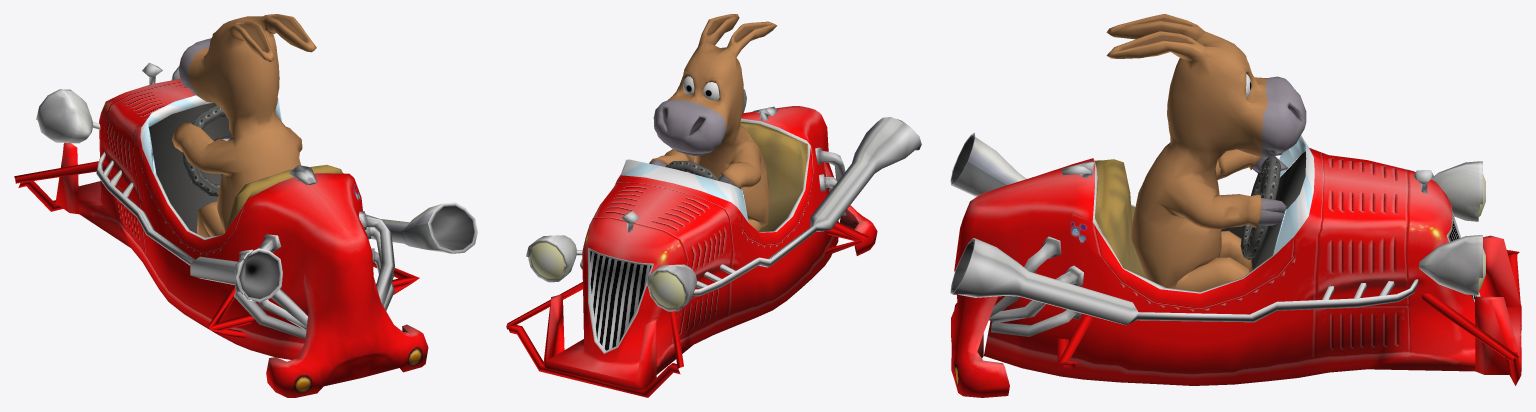
The model's file is emule.glb.
3 views of the same model, side by side, from view 1: azimuth 30°, elevation 25°; view 2: azimuth 150°, elevation 25°; view 3: azimuth 270°, elevation 25° (orthographic). The views are drawn at different scales.
Parts seen in each view (by area): view 1: emule_kart.jpg__, Emule_dif.png__; view 2: emule_kart.jpg__, Emule_dif.png__, Emule_eyes.png__; view 3: emule_kart.jpg__, Emule_dif.png__.
Boxes of the visible parts, x1=… form: emule_kart.jpg__: x1=14, y1=62, x2=477, y2=397; Emule_dif.png__: x1=172, y1=14, x2=316, y2=237; emule_kart.jpg__: x1=506, y1=89, x2=921, y2=397; Emule_dif.png__: x1=649, y1=14, x2=777, y2=231; Emule_eyes.png__: x1=683, y1=76, x2=719, y2=100; emule_kart.jpg__: x1=950, y1=132, x2=1521, y2=397; Emule_dif.png__: x1=1106, y1=14, x2=1306, y2=291.
Bounding box in the file's own units: 0.6257 × 0.7353 × 1.15.
4 materials, 4 textured.
